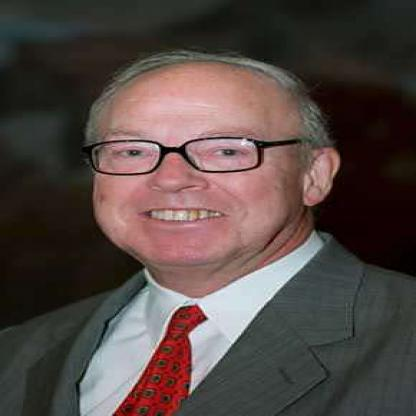face: (75, 59, 311, 272)
